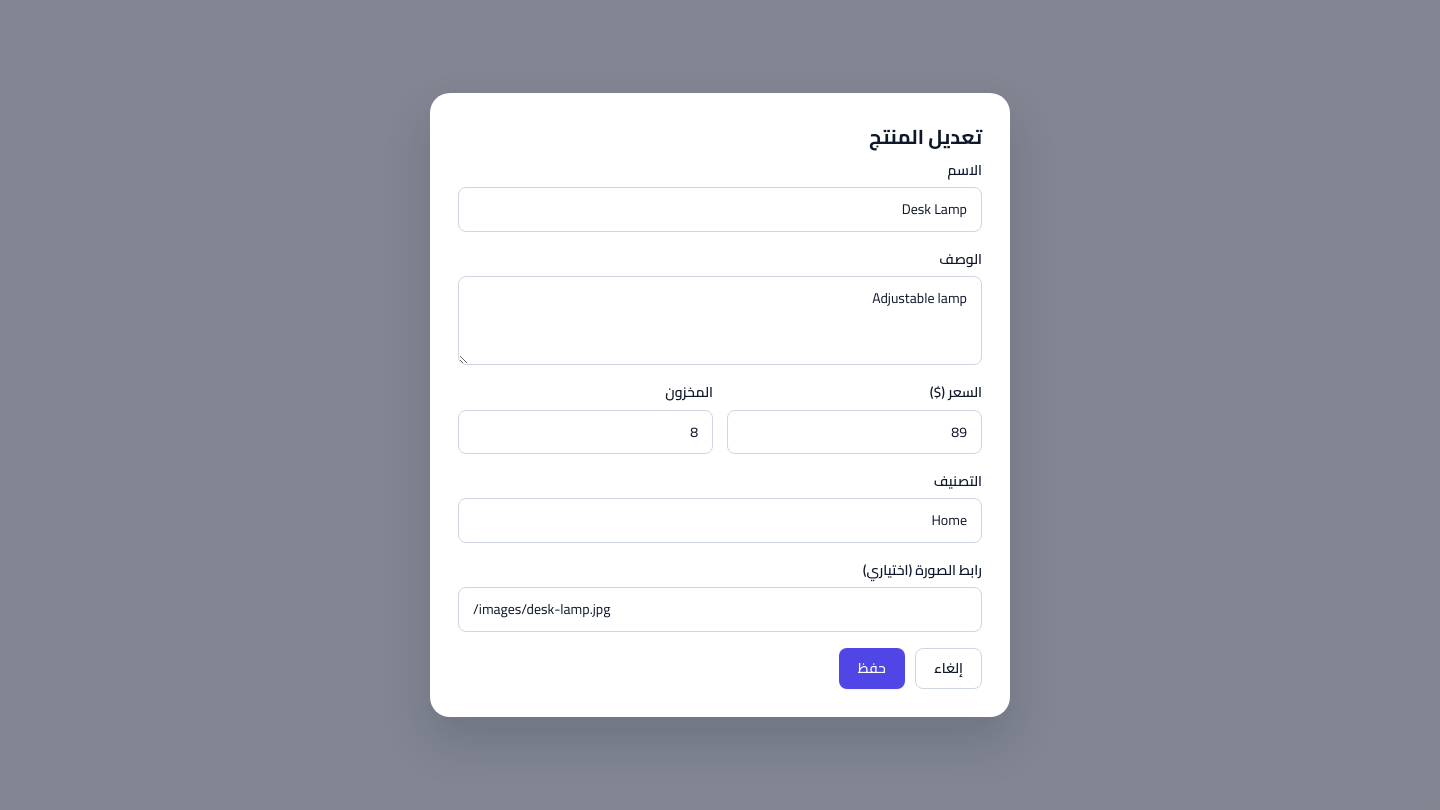
Test: ProductFormModal › rejects a negative price
Replace the text in the number field named "price" with "-1" at coordinates (854, 432), box x1=727 y1=410 x2=982 y2=454
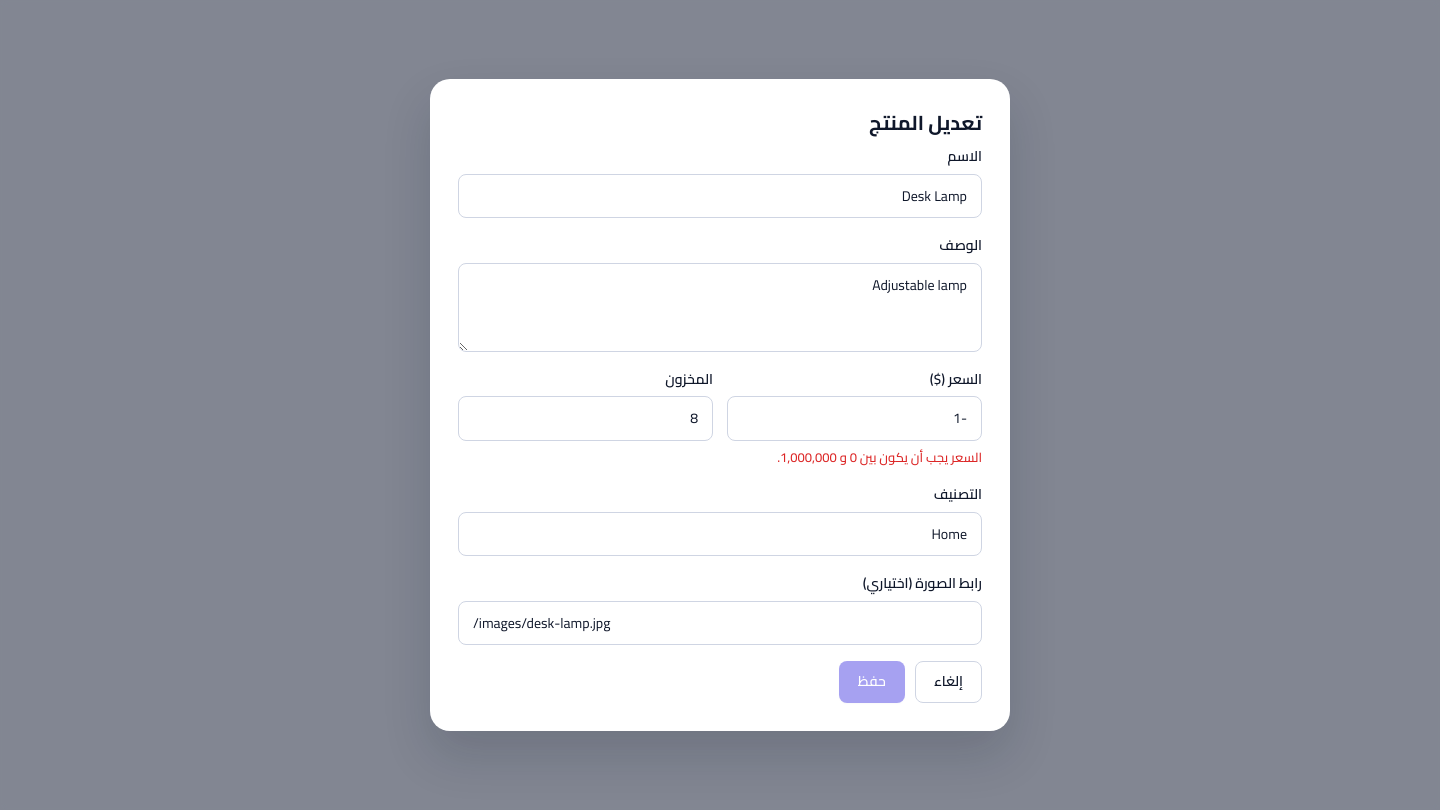
expect the text "السعر يجب أن يكون" is shown: met, box x1=777 y1=445 x2=982 y2=469
expect the submit button is disabled: met, box x1=839 y1=661 x2=905 y2=702
